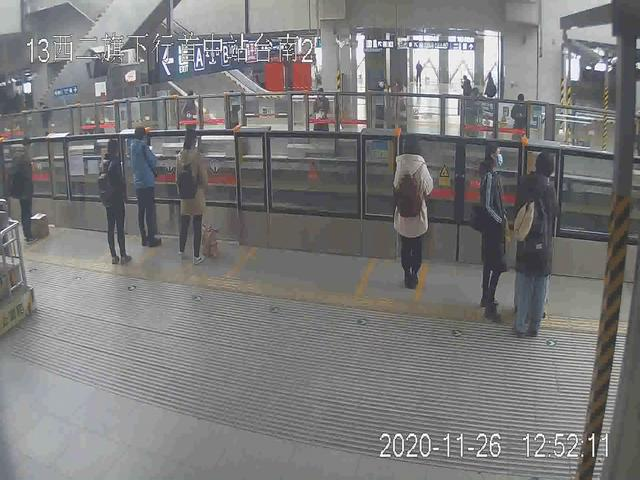person: (511, 148, 561, 333), (475, 140, 514, 321), (394, 137, 436, 287), (176, 130, 221, 266), (128, 124, 166, 251), (97, 137, 134, 267), (11, 138, 50, 240)
